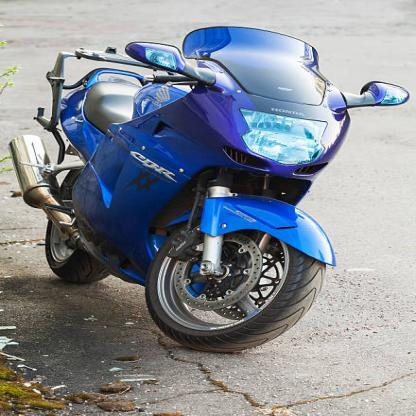Motorcycle: (4, 22, 415, 356)
